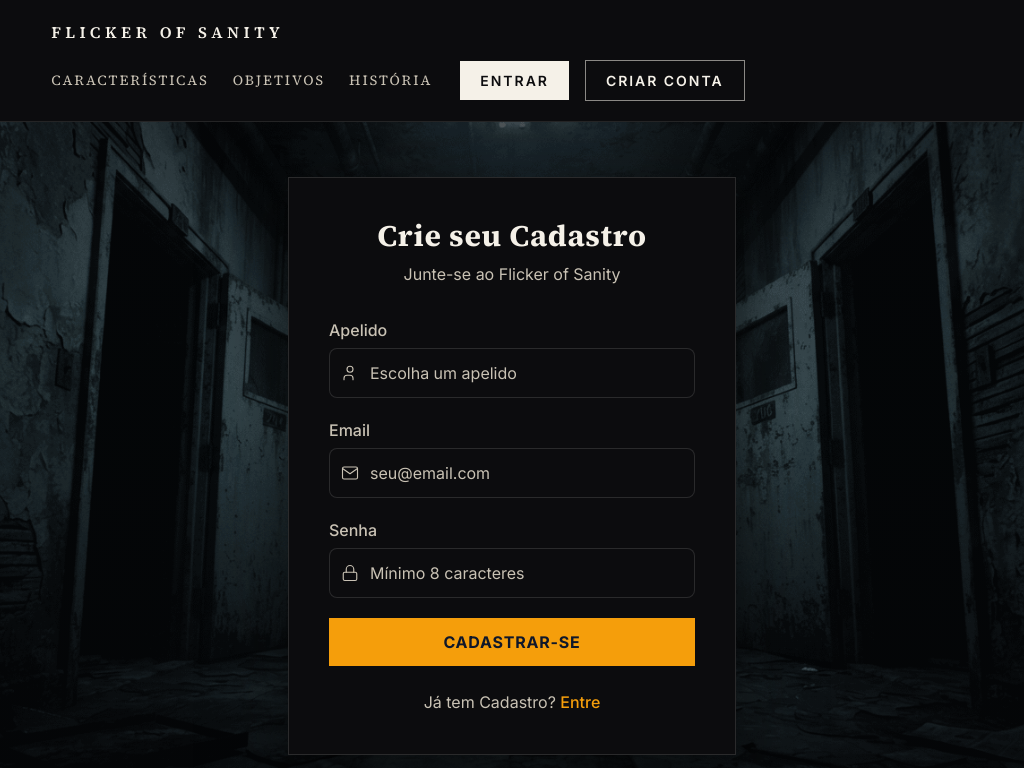
Scenario: CadastroPage › validação client-side: Informe o apelido.
Click the button "CADASTRAR-SE": coordinates (512, 642) [329,618,695,666]
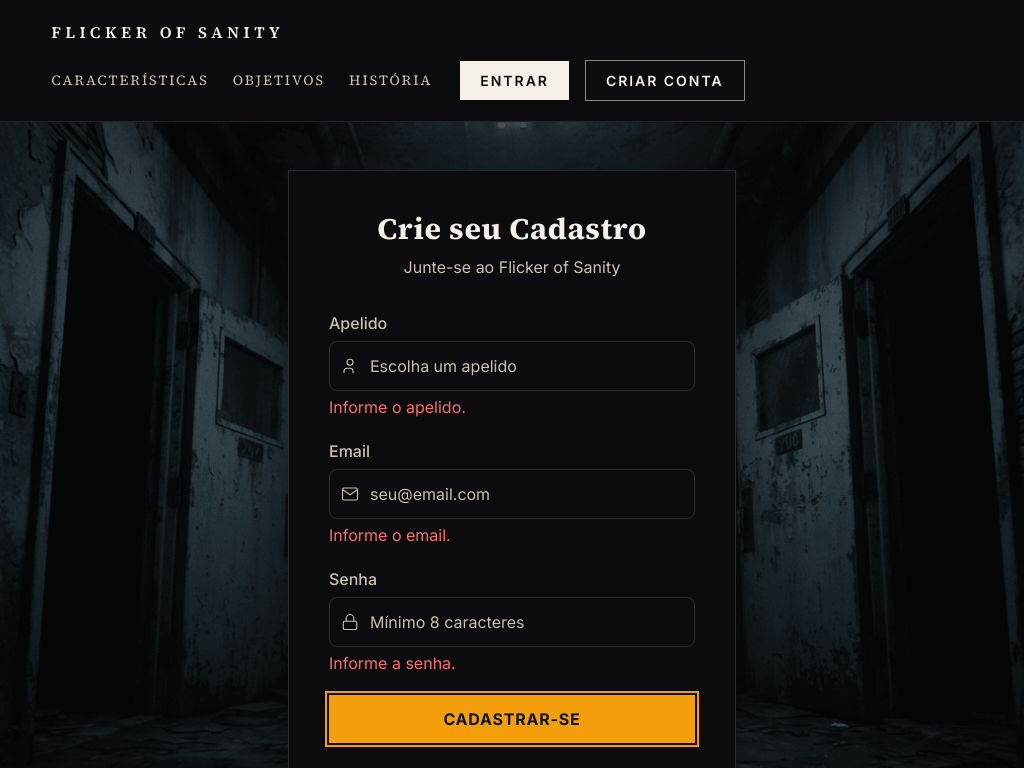
Expected: the text "Informe o apelido." is shown, [329,397,466,417]
